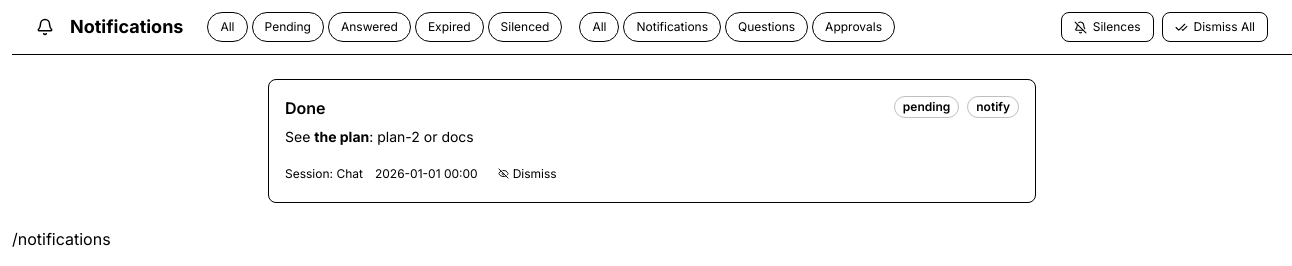
NotificationsPage links › renders the body as markdown, with app links in place
Click the link "plan-2" at point(398, 136), box [377,128,420,145]
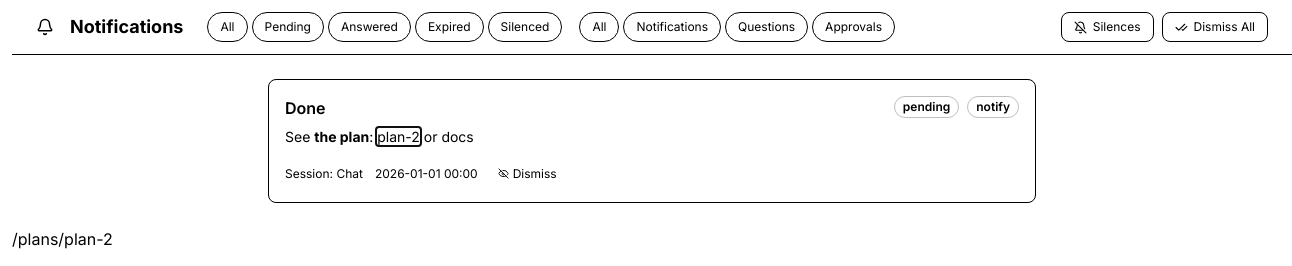
Check: the text with test id "where" reads "/plans/plan-2", box [12,229,113,249]
